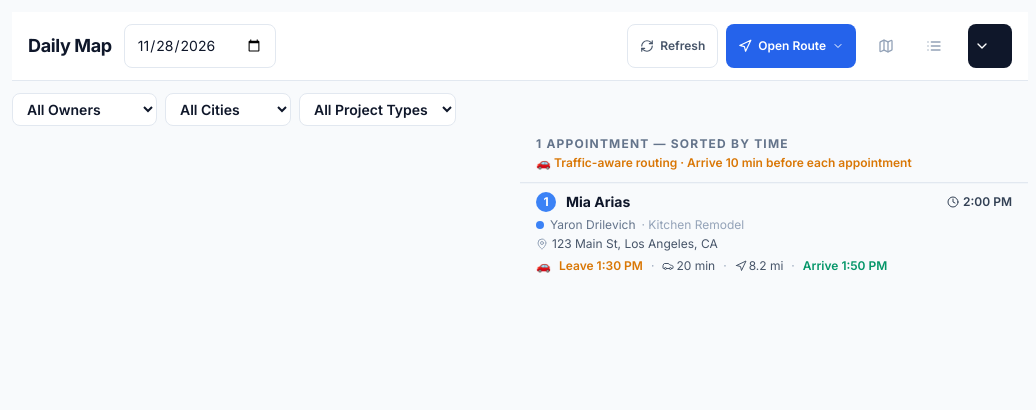
Test: DailyMap — click-to-open-Lead-Detail regression (reported: clicking a Lead from My Day showed "Map failed to load" instead of navigating) › clicking an AppointmentList row then "Open Lead" navigates to /leads/:id with no crash
Click the text "Mia Arias". click: (598, 202)
box: [566, 193, 630, 210]
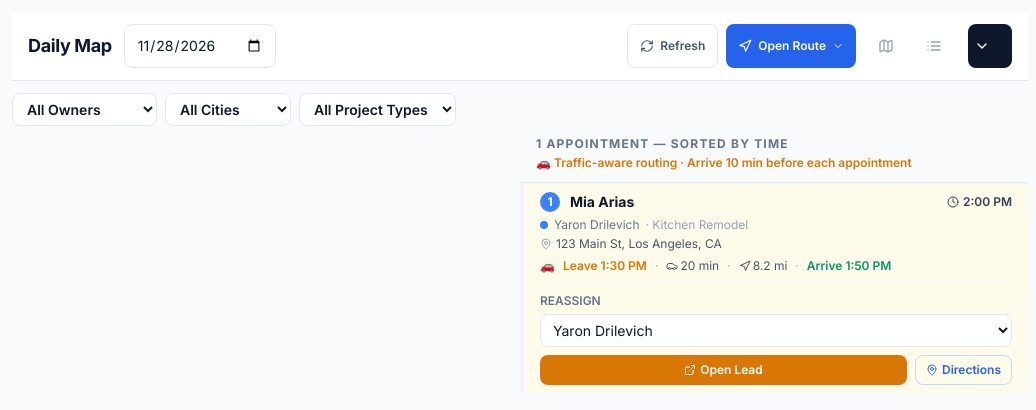
Expected: the link "Open Lead" is shown
Click the link "Open Lead". click: (724, 370)
box: [540, 355, 907, 385]
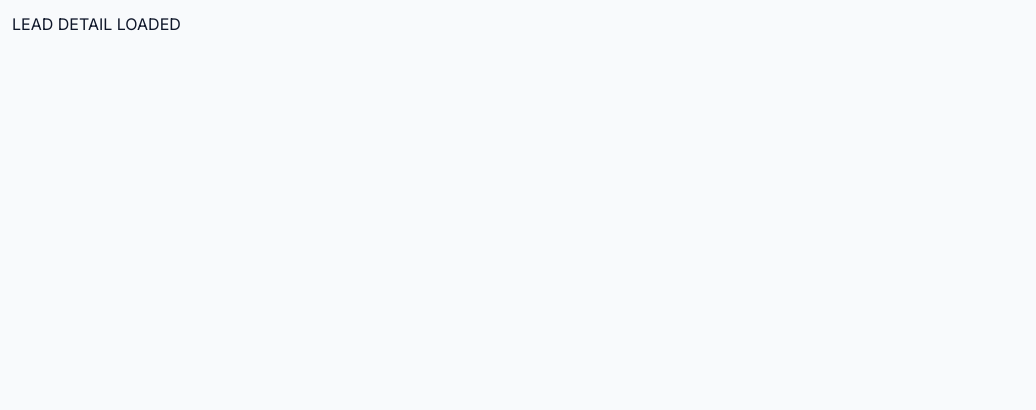
Expected: the text "LEAD DETAIL LOADED" is shown, [12, 14, 181, 34]
